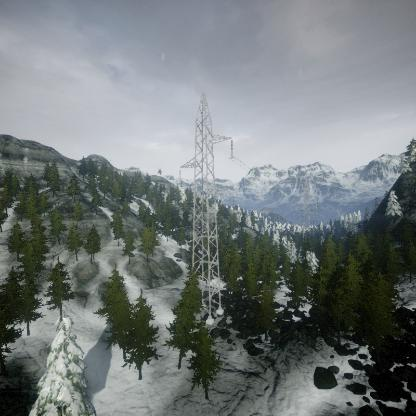tower: (175, 89, 236, 326)
